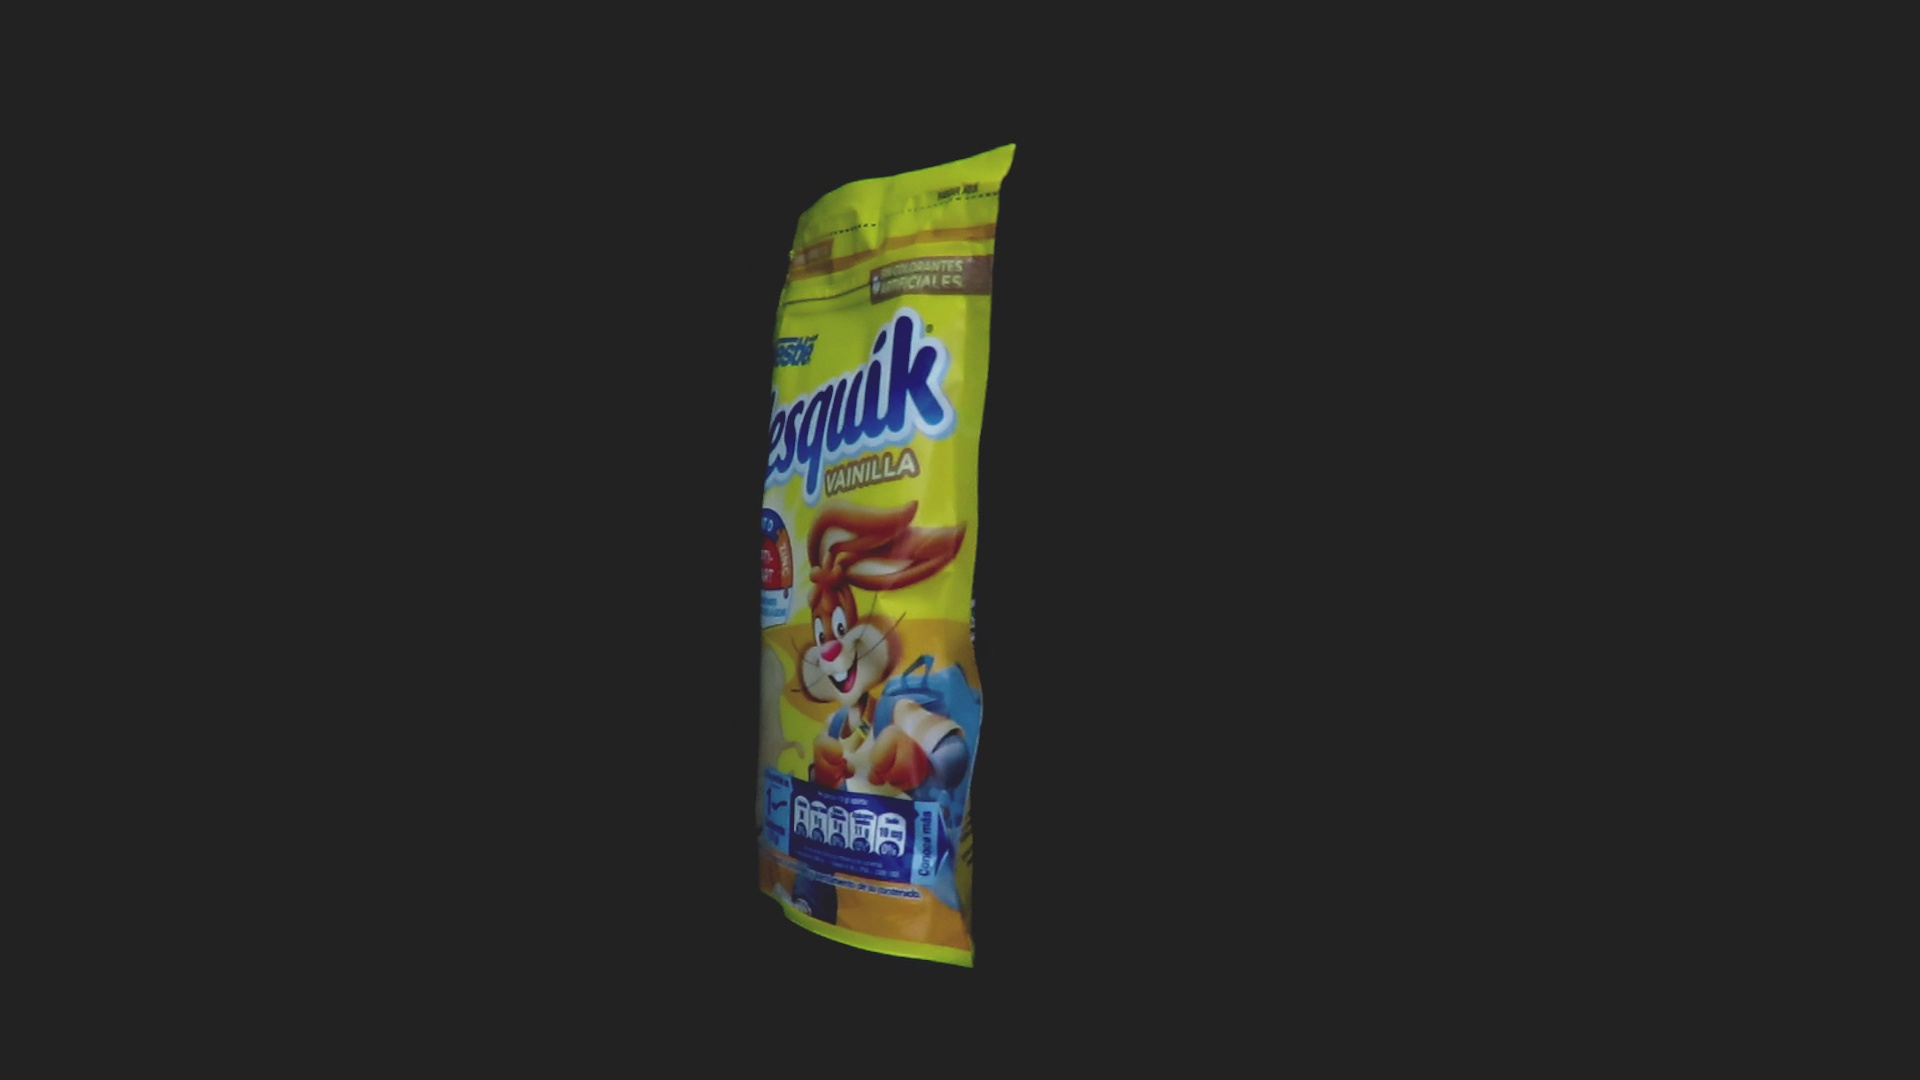COL0170306DYP20000: (752, 138, 1022, 975)
